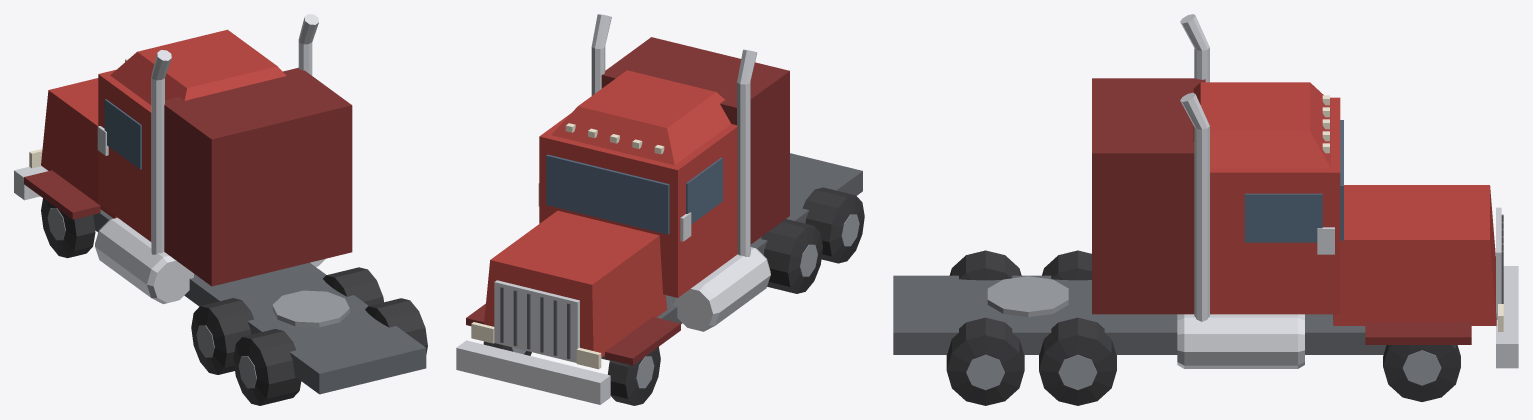
Rendered from Tractor.obj.
3 views of the same model, side by side, from view 1: azimuth 30°, elevation 25°; view 2: azimuth 150°, elevation 25°; view 3: azimuth 270°, elevation 25° (orthographic). The views are drawn at different scales.
Visible parts, largest first — view 1: Tractor; view 2: Tractor; view 3: Tractor.
Boxes of the visible parts, x1=… form: Tractor: x1=14, y1=14, x2=427, y2=405; Tractor: x1=456, y1=14, x2=864, y2=405; Tractor: x1=893, y1=14, x2=1518, y2=405.
Size of the model in its own units: 3.31 by 4.8 by 8.81.
1 material, 1 textured.
